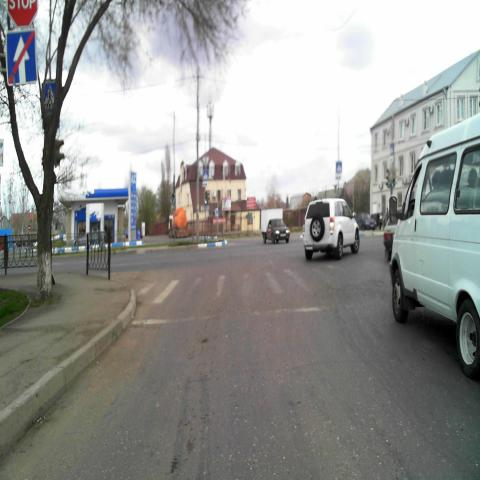5_19_1: (42, 78, 60, 112)
5_6: (5, 28, 36, 84)
8_15: (202, 181, 209, 188)
